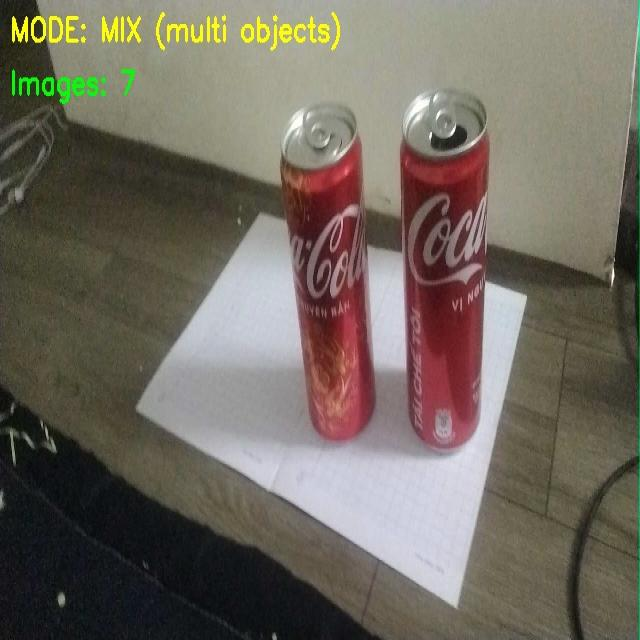Coca: (260, 79, 390, 447)
Coca_open: (400, 72, 522, 464)
